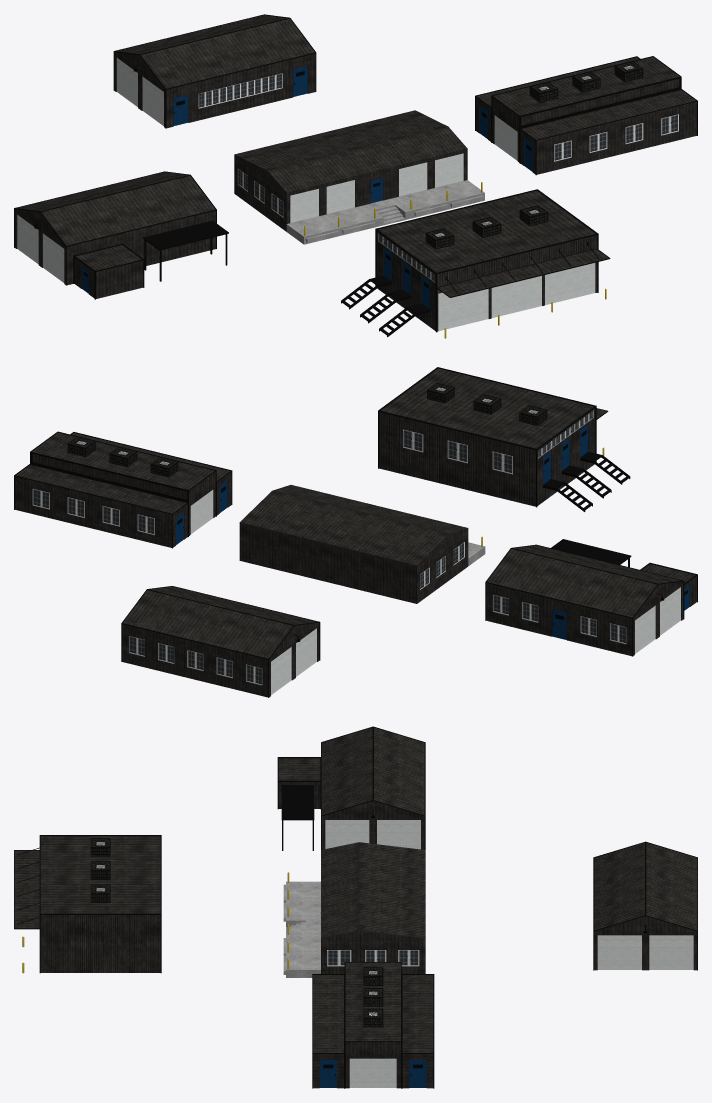
Rendered from warehouse.glb.
The picture shows the model from 3 angles, top to bottom: view 1: azimuth 30°, elevation 25°; view 2: azimuth 150°, elevation 25°; view 3: azimuth 270°, elevation 25°; orthographic projection. The views are drawn at different scales.
Visible parts, largest first — view 1: warehouse_5, warehouse_3, warehouse_2, warehouse_4, warehouse_1; view 2: warehouse_5, warehouse_3, warehouse_4, warehouse_2, warehouse_1; view 3: warehouse_5, warehouse_3, warehouse_2, warehouse_4, warehouse_1.
Boxes of the visible parts, x1,y1,x2,y2 form: warehouse_5: (341, 189, 610, 338); warehouse_3: (234, 110, 484, 244); warehouse_2: (475, 56, 697, 175); warehouse_4: (14, 171, 228, 299); warehouse_1: (113, 14, 316, 128); warehouse_5: (378, 367, 630, 511); warehouse_3: (239, 485, 485, 603); warehouse_4: (485, 539, 697, 656); warehouse_2: (14, 431, 232, 548); warehouse_1: (121, 586, 320, 697); warehouse_5: (14, 835, 161, 973); warehouse_3: (283, 842, 425, 977); warehouse_2: (312, 962, 434, 1088); warehouse_4: (277, 726, 425, 850); warehouse_1: (593, 841, 697, 970).
Bounding box in the file's own units: 67.22 × 6.87 × 62.76.
Materials: 1 (1 with a texture image).
